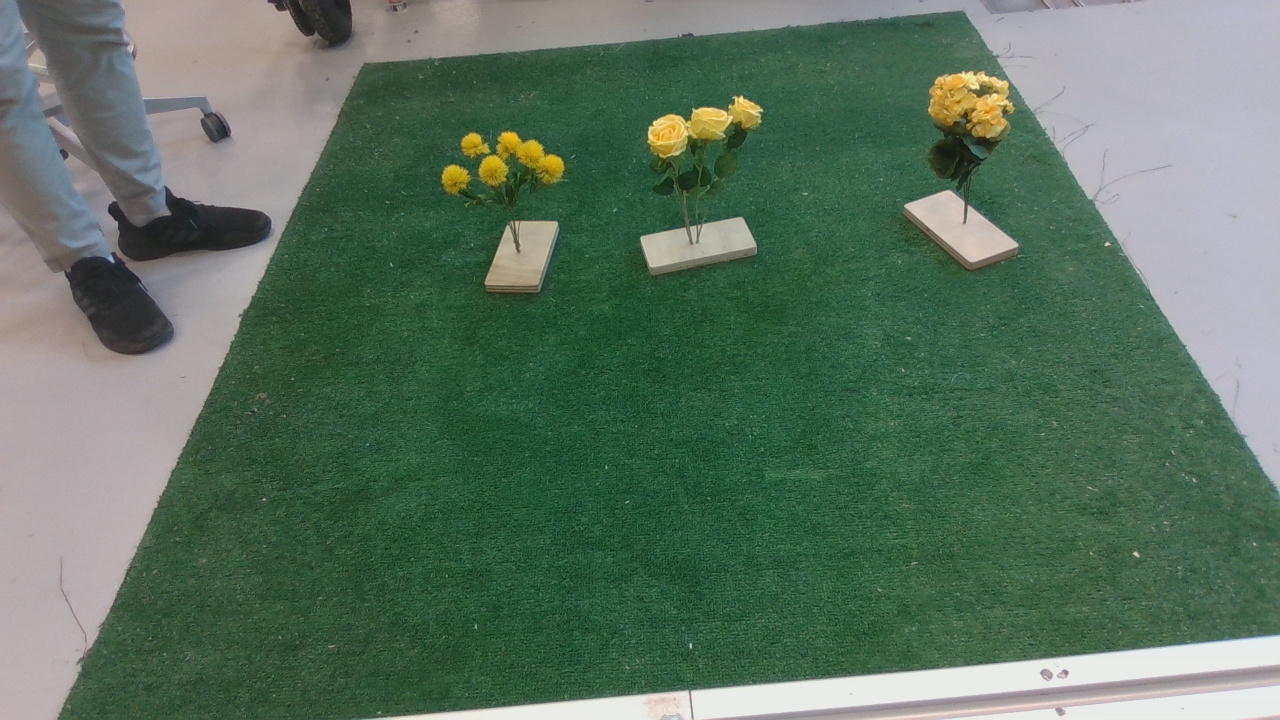dandelion: (424, 128, 582, 217)
geranium: (928, 67, 1022, 208)
rose: (646, 94, 780, 213)
